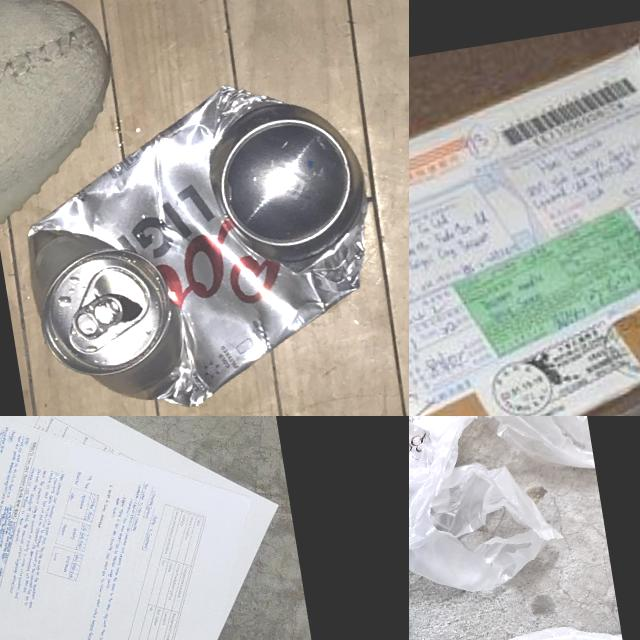aba de lata: (70, 293, 128, 343)
lata: (4, 65, 399, 416)
papel: (0, 416, 352, 640)
papelão: (409, 3, 640, 416)
sacola plástica: (409, 416, 612, 609)
